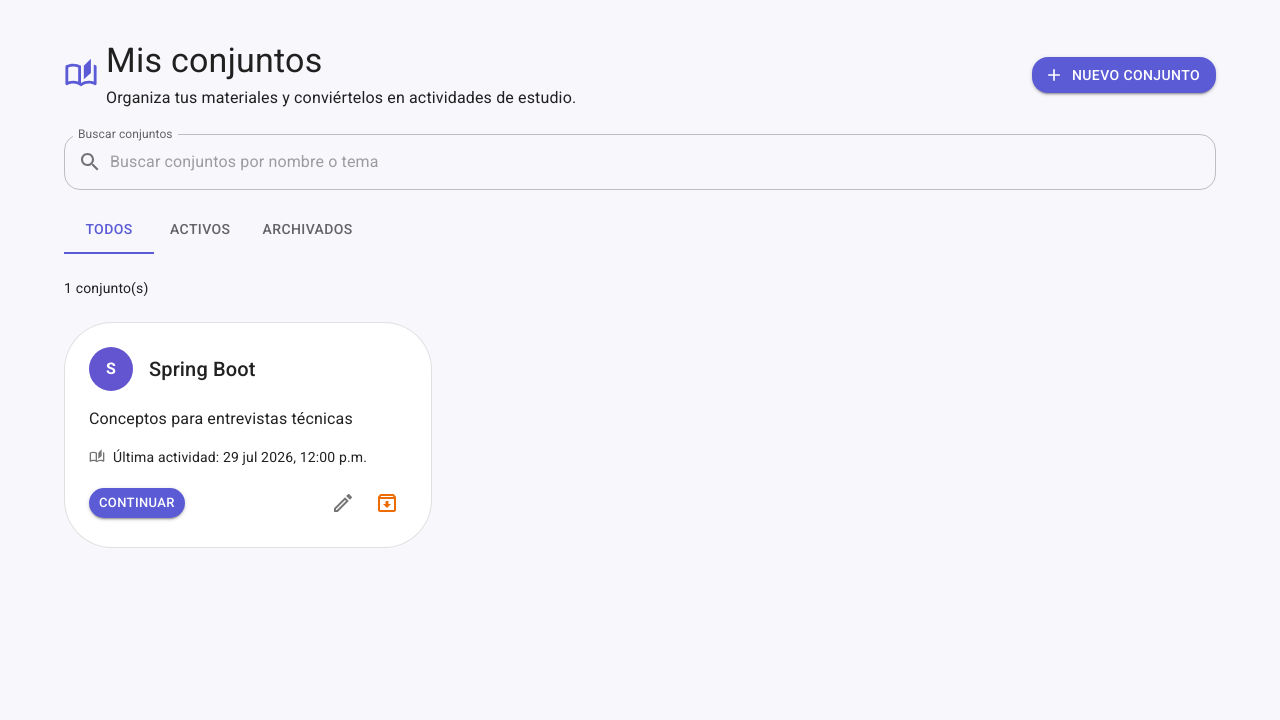
DecksPage › archives a deck and refreshes the list
expect the heading "Spring Boot" is shown: met, box [149,353,256,385]
What coordinates should you click on to do the following:
click the button named "Archivar Spring Boot"
I would click on:
 (387, 503)
Its box is [367,483,407,523].
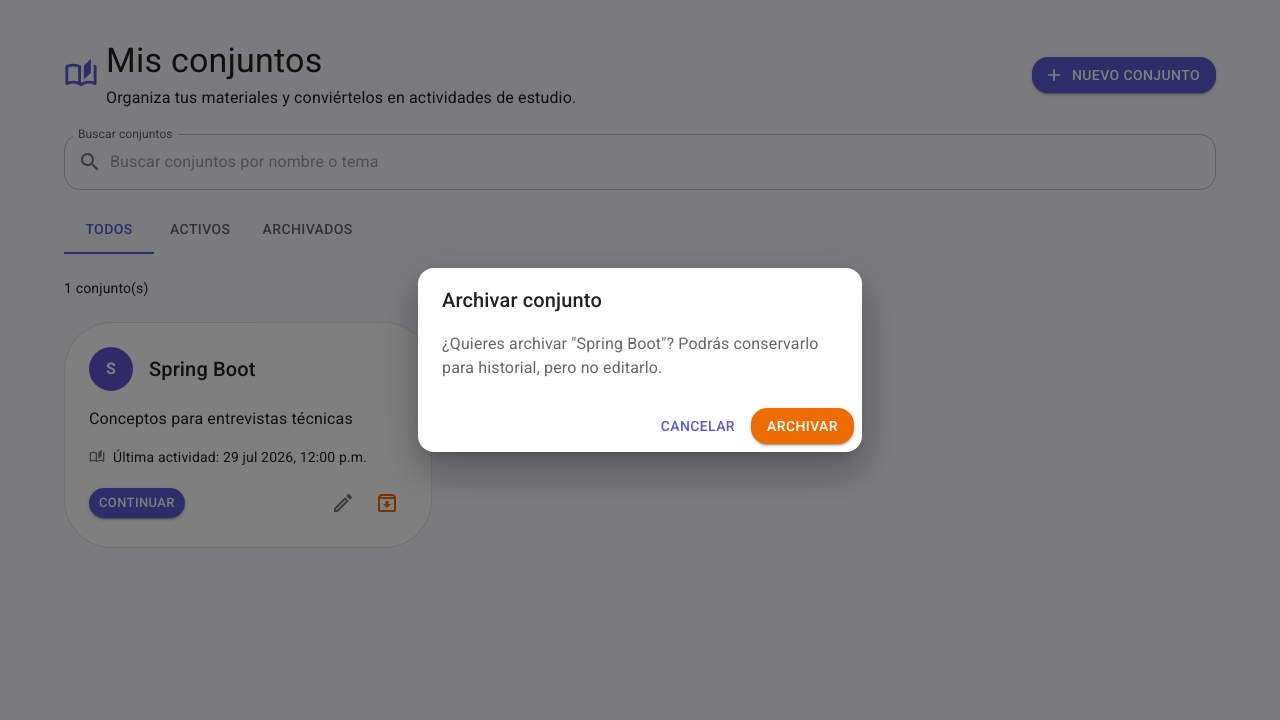
What coordinates should you click on to do the following:
click the button "Archivar"
I would click on:
 (802, 426)
Its box is [751,408,854,444].
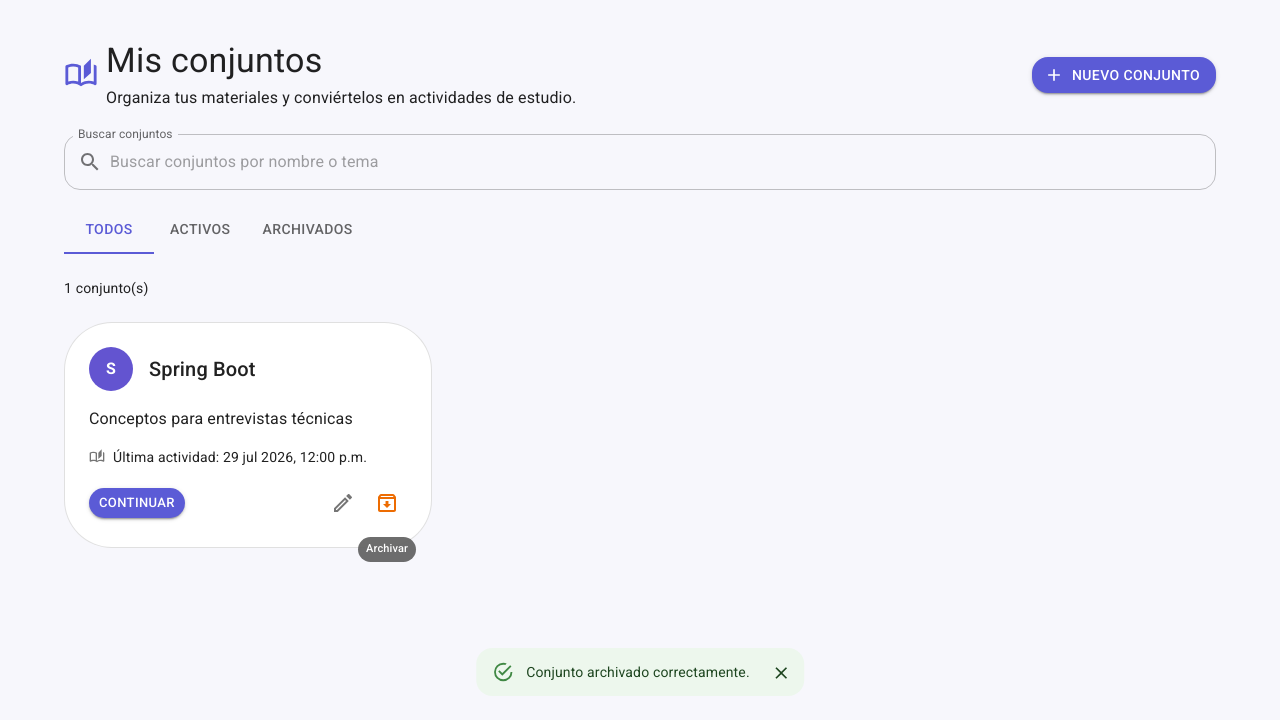
expect the text "Conjunto archivado correctamente." is shown: met, box [526,664,750,680]
